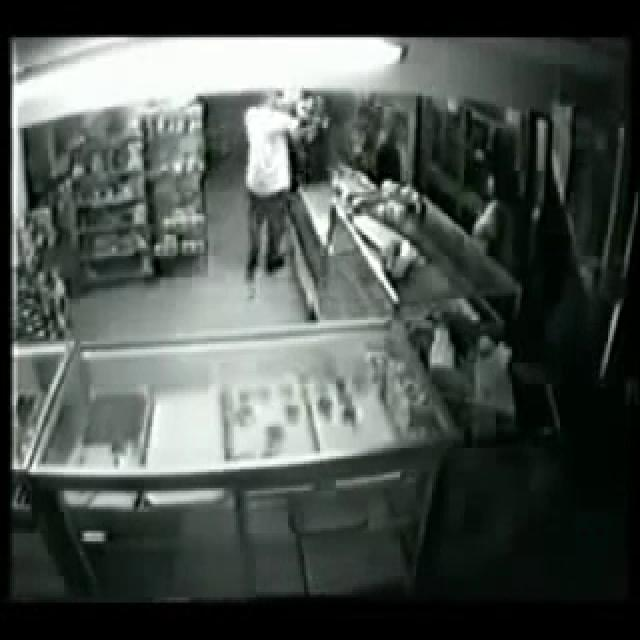shooting: (218, 56, 430, 391)
